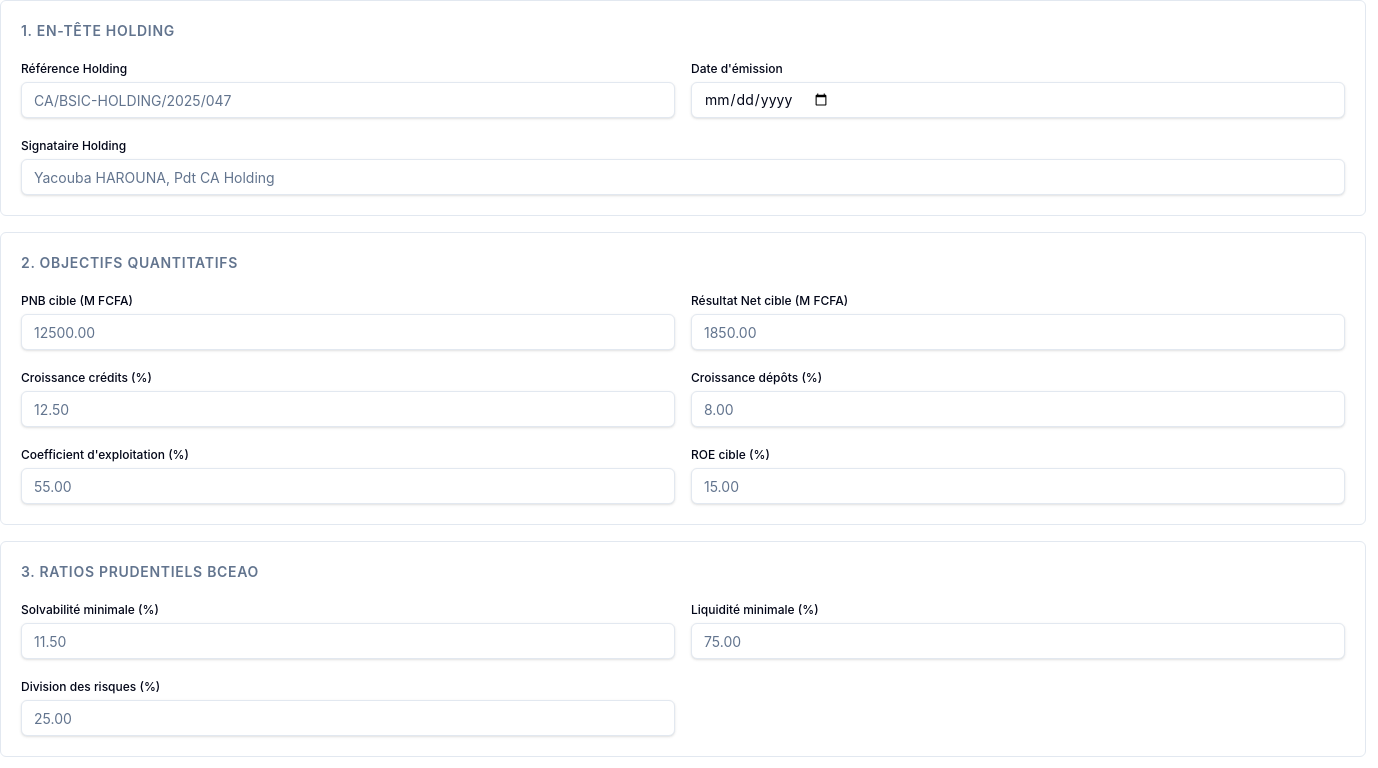
LettreCadrageDetailsForm (Lot 8.2.C P3) › 4. champ numérique invalide → erreur zod + API jamais appelée
This screenshot has width=1378, height=768.
In the field with test id "lcd-input-pnbCibleMfcfa": point(348, 332) [21,314,675,350], type "pas-un-nombre"
(page scrolled)
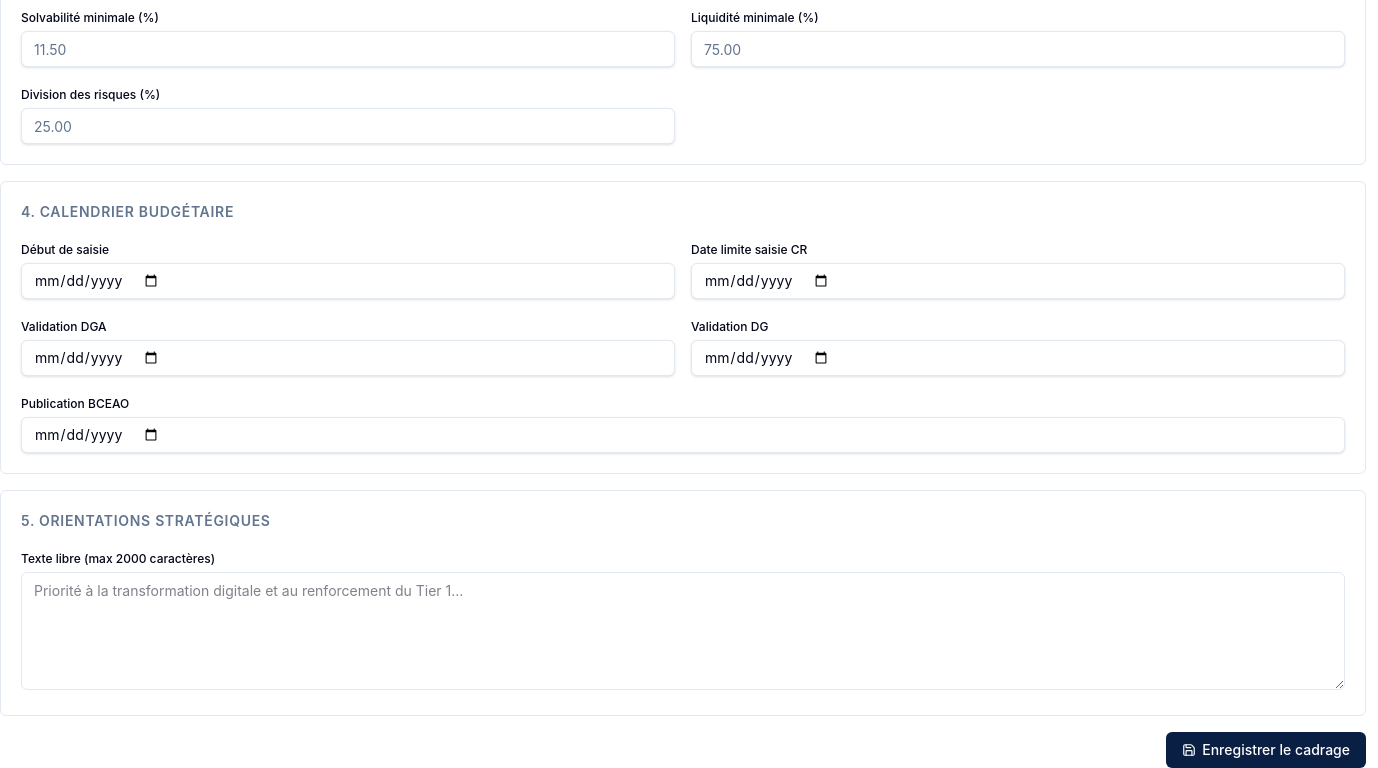
Click the button with test id "btn-save-cadrage": point(1266, 750) [1166,732,1366,767]
(page scrolled)
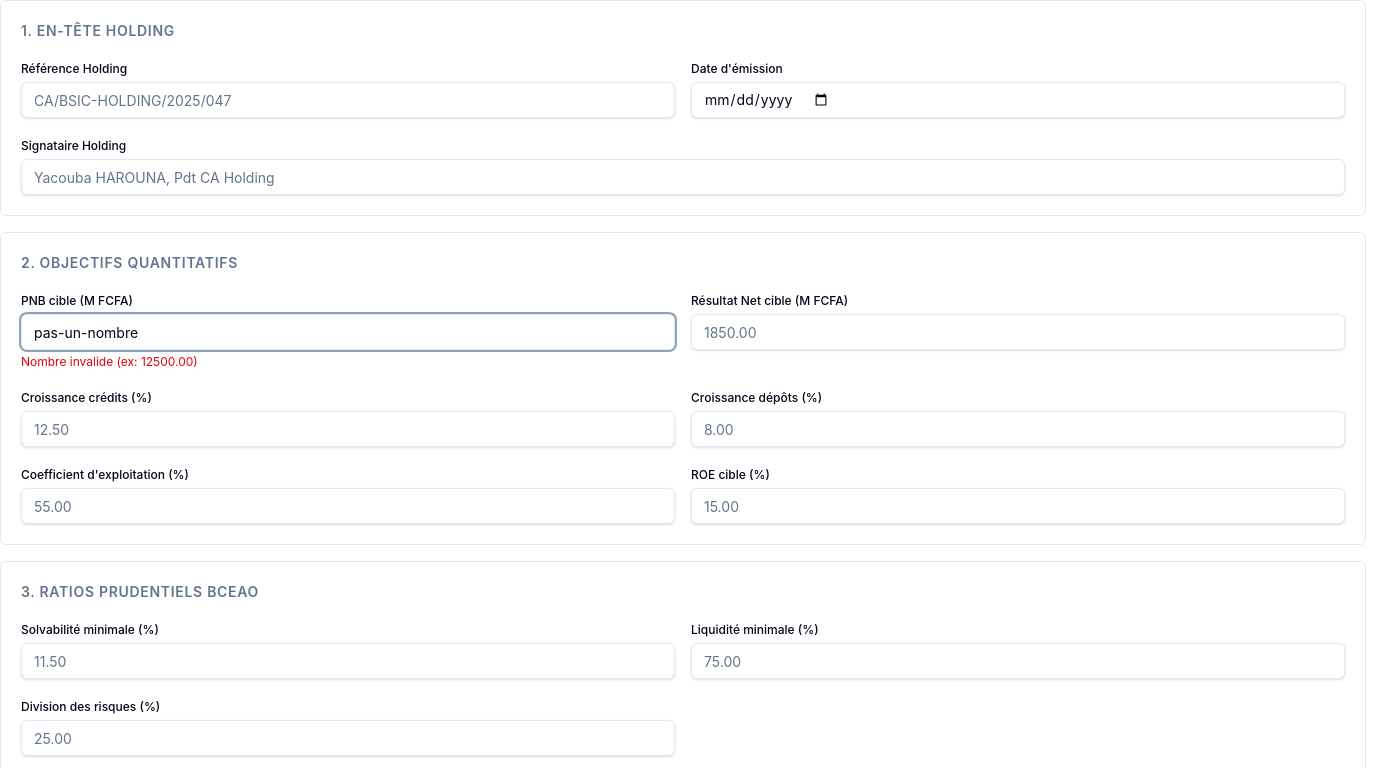
Expected: the text with test id "lcd-err-pnbCibleMfcfa" shows "Nombre invalide", [21,354,198,369]
